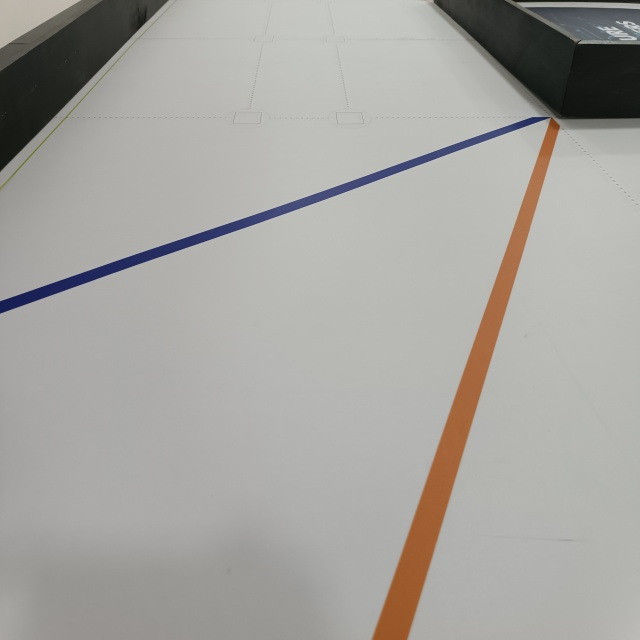blue line: (0, 112, 551, 317)
orange line: (373, 123, 563, 640)
